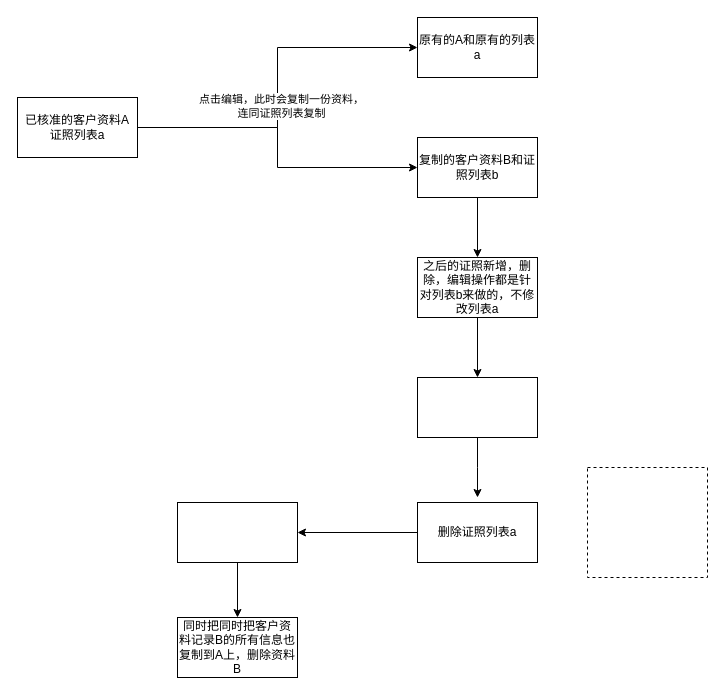
Image size: 725x695. Some labels were removed from this diagram. The centre of each missing label's shape, as x and y in pixels:
"将证照列表b作为新的证照列表a，" goes at (237,532).
"提交审核" goes at (477,407).
"证照的存储有分两种类型，一种是release类型就是我上面所说的列表a，一种是transfer，也就是编辑用途的，上面所说的列表b" goes at (647,522).
